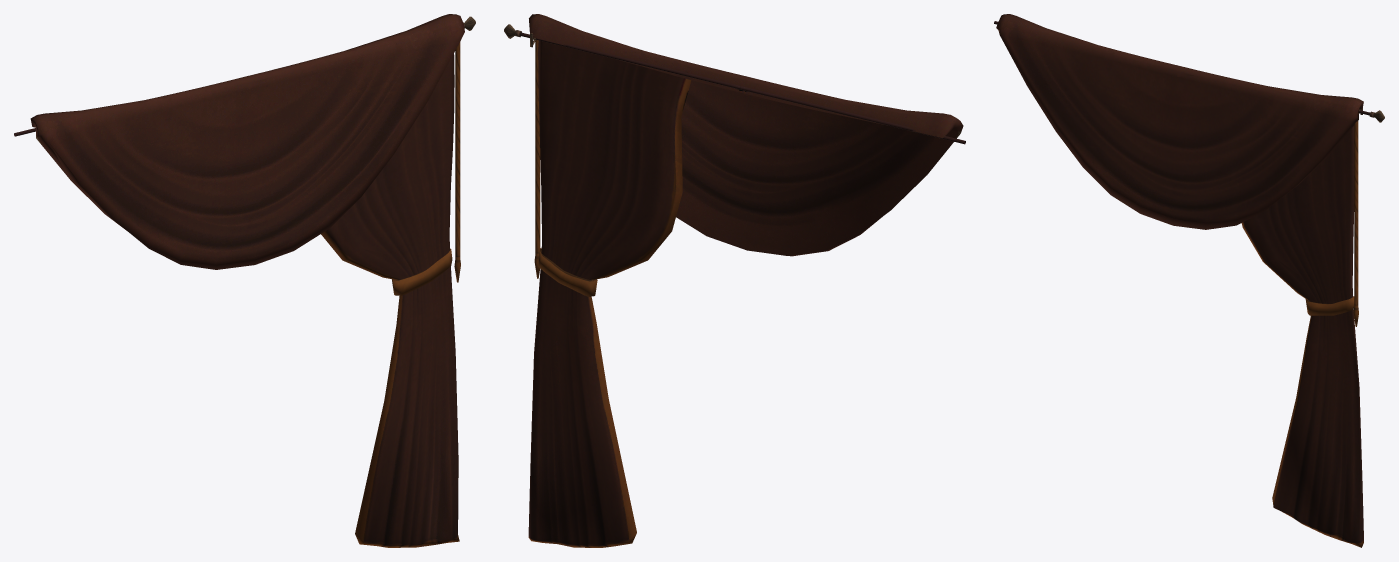
File: ApartmentCurtainsRight.obj
3 renders of one model, left to right at view 1: azimuth 30°, elevation 25°; view 2: azimuth 150°, elevation 25°; view 3: azimuth 330°, elevation 25°, orthographic. The views are drawn at different scales.
Parts seen in each view (by area): view 1: ApartmentCurtainsRight; view 2: ApartmentCurtainsRight; view 3: ApartmentCurtainsRight.
Boxes of the visible parts, bbox=[...] form: ApartmentCurtainsRight: bbox=[14, 14, 475, 547]; ApartmentCurtainsRight: bbox=[504, 14, 965, 547]; ApartmentCurtainsRight: bbox=[994, 14, 1384, 547].
Bounding box in the file's own units: 264 × 289 × 18.4.
1 material, 1 textured.
